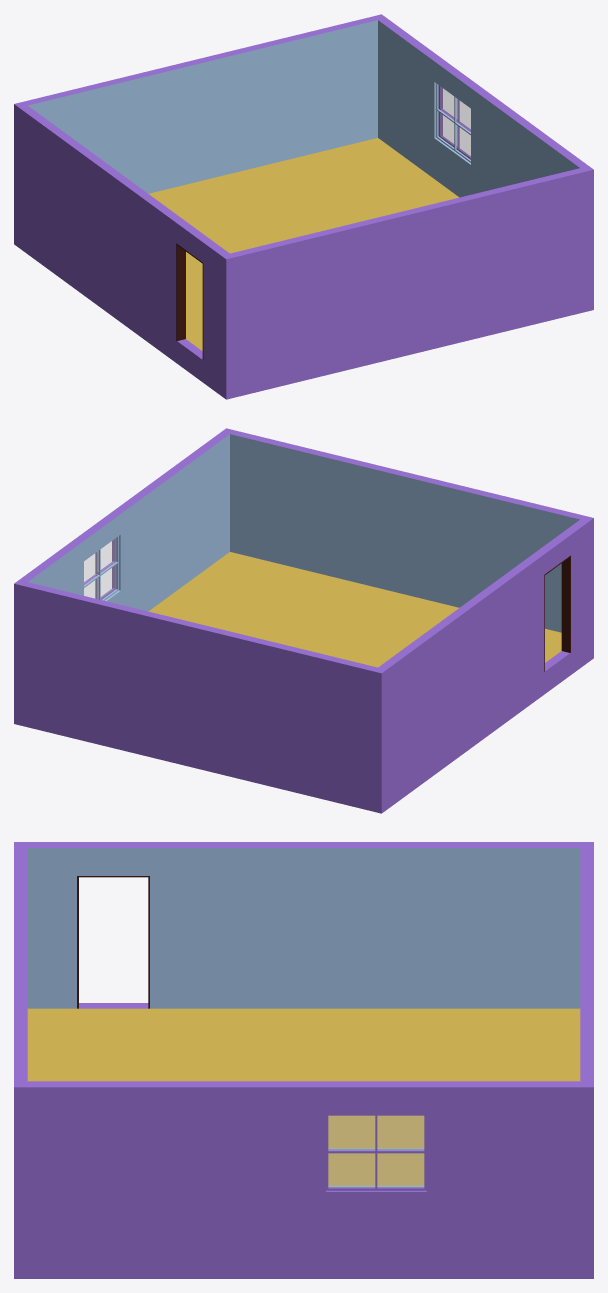
The model's file is Room.fbx.
3 views of the same model, one above another, from view 1: azimuth 30°, elevation 25°; view 2: azimuth 150°, elevation 25°; view 3: azimuth 270°, elevation 25° (orthographic). The views are drawn at different scales.
Parts seen in each view (by area): view 1: Room; view 2: Room; view 3: Room.
Part boxes in pixels (<box>): Room: <box>14,14,593,399</box>; Room: <box>14,428,593,813</box>; Room: <box>14,842,593,1278</box>.
Bounding box in the file's own units: 1370 × 500 × 1370.
